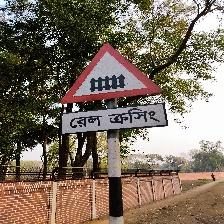Rail-crossing: (56, 37, 168, 135)
